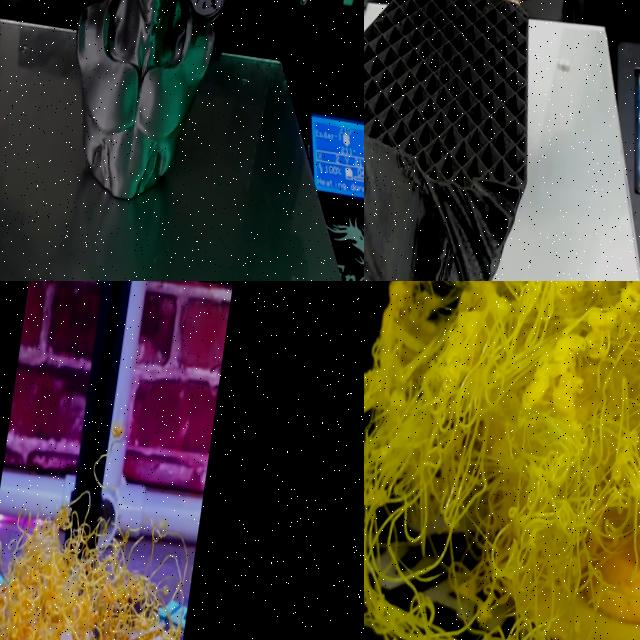spaghetti: (364, 281, 640, 640), (0, 463, 208, 640)
